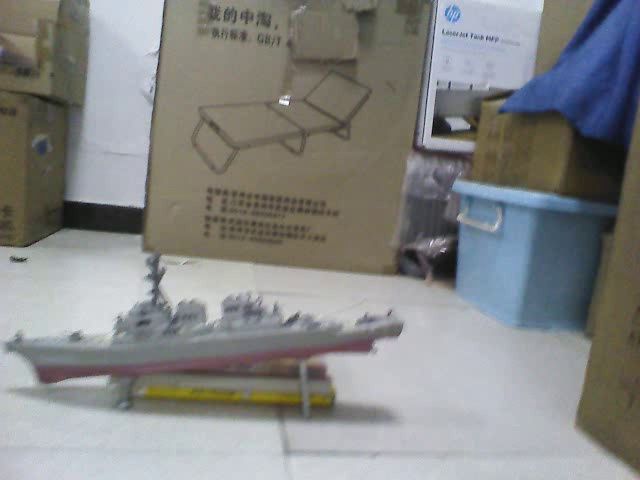warship: (1, 255, 413, 369)
